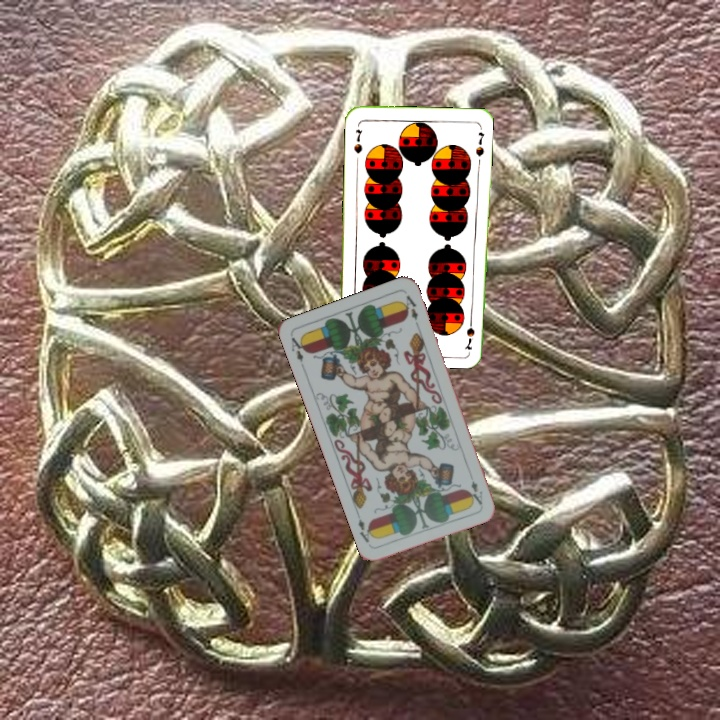EA: (287, 333, 309, 372), (467, 476, 485, 507)
S7: (463, 312, 477, 352), (350, 125, 365, 156)
